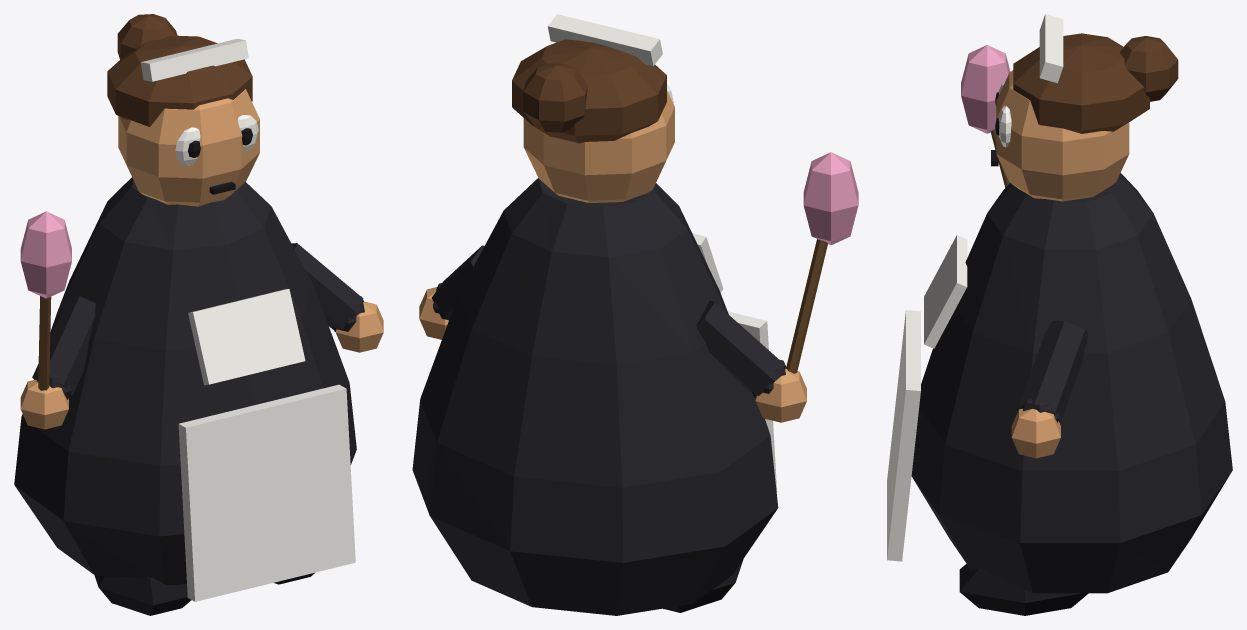
The model's file is npc_mucama.glb.
3 renders of one model, left to right at view 1: azimuth 30°, elevation 25°; view 2: azimuth 150°, elevation 25°; view 3: azimuth 270°, elevation 25°, orthographic. The views are drawn at different scales.
Visible parts, largest first — view 1: body_maid_black, body_white, head_skin_arena, head_hair_brown (×2), arms_maid_black, props_duster, arms_skin_arena, legs_black, head_white, props_duster_handle, face_white, face_black; view 2: body_maid_black, head_hair_brown (×2), head_skin_arena, arms_maid_black, props_duster, arms_skin_arena, head_white, props_duster_handle, body_white, legs_black; view 3: body_maid_black, head_hair_brown (×2), head_skin_arena, body_white, arms_maid_black, legs_black, props_duster, arms_skin_arena, head_white, face_white.
Boxes of the visible parts, x1=… form: body_maid_black: x1=14, y1=177, x2=356, y2=584; body_white: x1=178, y1=289, x2=355, y2=601; head_skin_arena: x1=118, y1=89, x2=259, y2=206; head_hair_brown (×2): x1=107, y1=14, x2=252, y2=126; arms_maid_black: x1=32, y1=243, x2=364, y2=399; props_duster: x1=20, y1=211, x2=71, y2=298; arms_skin_arena: x1=20, y1=301, x2=383, y2=429; legs_black: x1=94, y1=572, x2=314, y2=615; head_white: x1=141, y1=38, x2=248, y2=81; props_duster_handle: x1=38, y1=296, x2=51, y2=390; face_white: x1=175, y1=115, x2=258, y2=165; face_black: x1=188, y1=128, x2=252, y2=194; body_maid_black: x1=412, y1=178, x2=778, y2=615; head_hair_brown (×2): x1=512, y1=39, x2=666, y2=143; head_skin_arena: x1=523, y1=91, x2=674, y2=202; arms_maid_black: x1=432, y1=245, x2=786, y2=398; props_duster: x1=803, y1=152, x2=858, y2=245; arms_skin_arena: x1=419, y1=287, x2=806, y2=422; head_white: x1=547, y1=14, x2=662, y2=66; props_duster_handle: x1=786, y1=239, x2=827, y2=373; body_white: x1=692, y1=233, x2=776, y2=492; legs_black: x1=663, y1=559, x2=743, y2=612; body_maid_black: x1=911, y1=173, x2=1232, y2=593; head_hair_brown (×2): x1=1013, y1=33, x2=1178, y2=133; head_skin_arena: x1=996, y1=70, x2=1129, y2=201; body_white: x1=887, y1=235, x2=967, y2=561; arms_maid_black: x1=1019, y1=321, x2=1088, y2=422; legs_black: x1=959, y1=564, x2=1088, y2=615; props_duster: x1=961, y1=45, x2=1010, y2=133; arms_skin_arena: x1=1011, y1=408, x2=1060, y2=458; head_white: x1=1039, y1=14, x2=1063, y2=83; face_white: x1=998, y1=80, x2=1011, y2=147.
Bounding box in the file's own units: 1.2 × 1.57 × 0.9149.
